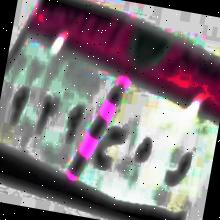2: (32, 91, 61, 147)
7aa: (94, 114, 128, 173)
9: (6, 81, 31, 132), (62, 95, 86, 146)
haa: (132, 126, 156, 174)
waw: (162, 140, 193, 194)
